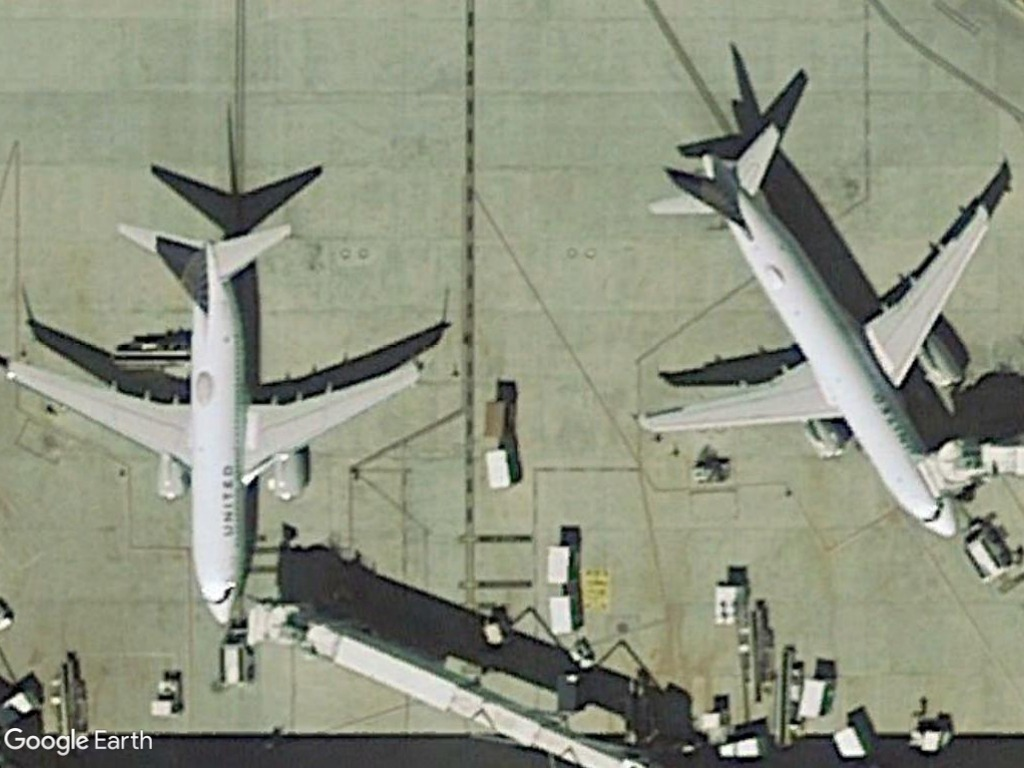airliner: (0, 207, 430, 632), (636, 113, 1000, 544)
